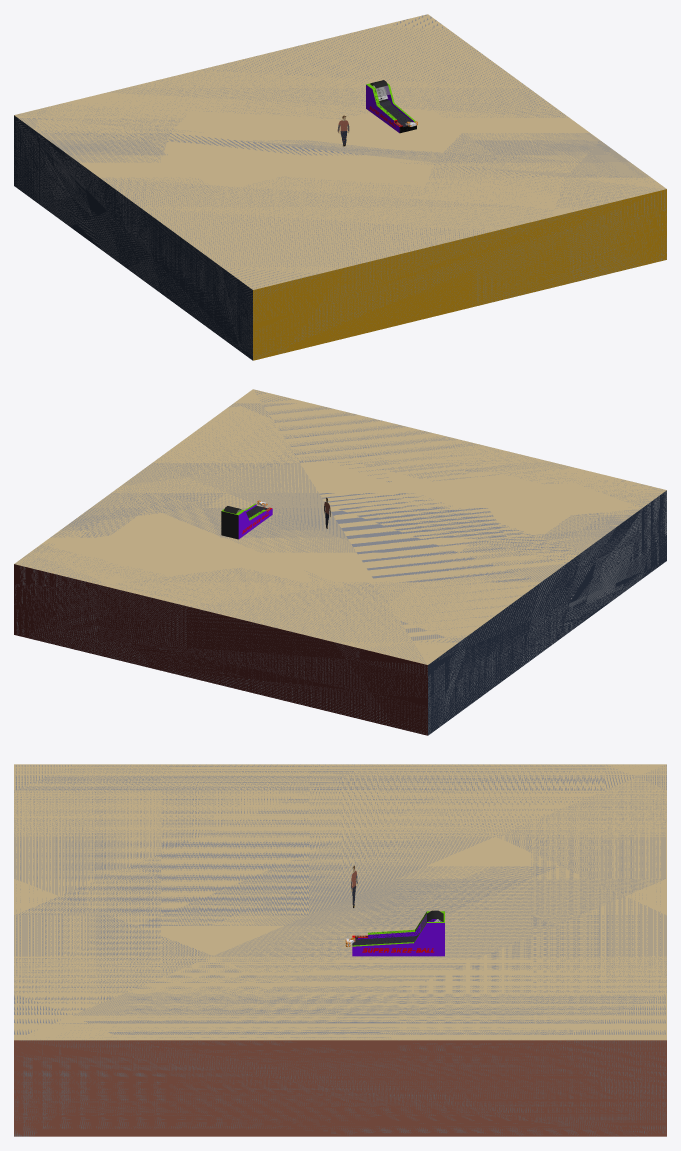
3 views of the same model, one above another, from view 1: azimuth 30°, elevation 25°; view 2: azimuth 150°, elevation 25°; view 3: azimuth 270°, elevation 25° (orthographic). The views are drawn at different scales.
Parts seen in each view (by area): view 1: floor (×3); view 2: floor (×3); view 3: floor (×2), staticmesh.
Part boxes in pixels (x1,y1,x2,y2): floor (×3): (14,14,666,360); floor (×3): (14,389,666,735); floor (×2): (14,764,666,1136); staticmesh: (352,923,444,956).
Bounding box in the file's own units: 1000 × 1000 × 234.
